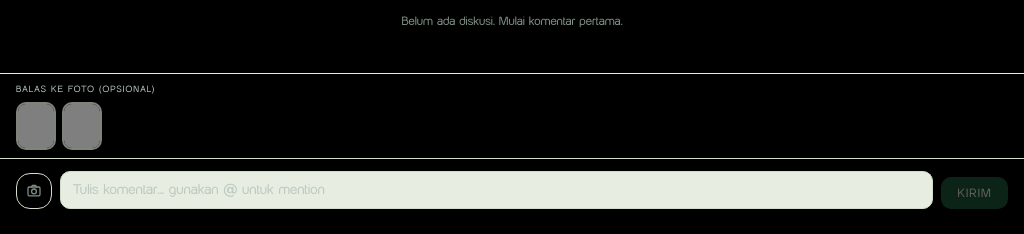
Test: CommentThread — mention autocomplete › mengetik @ memicu dropdown profil yang cocok
The width and height of the screenshot is (1024, 234).
Type "cc @Bu" into the text box with placeholder "Tulis komentar... gunakan @ untuk mention" at (497, 190), box x1=60 y1=170 x2=933 y2=208
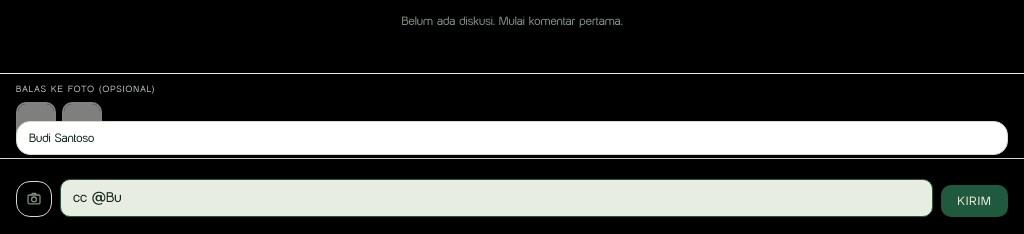
expect the button "Budi Santoso" is shown: met, box x1=17 y1=122 x2=1007 y2=154
